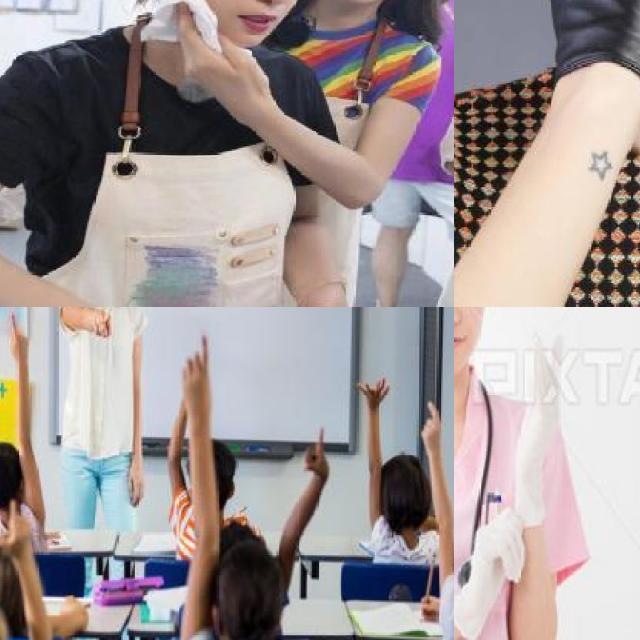face_nomask: (204, 0, 311, 41)
hand_glove: (517, 332, 565, 465), (464, 503, 524, 594)
hand_noglove: (172, 3, 267, 102), (178, 332, 210, 416), (0, 498, 30, 552), (303, 428, 330, 480), (353, 377, 392, 408), (421, 400, 441, 456), (9, 308, 29, 360), (60, 596, 88, 632), (127, 464, 144, 506), (92, 307, 110, 338), (420, 596, 440, 622)
head_nohelmet: (196, 529, 294, 640), (376, 453, 434, 537), (181, 443, 246, 508), (0, 434, 33, 514)
person: (0, 0, 327, 307), (309, 0, 454, 307), (454, 307, 586, 640), (59, 307, 153, 528)
